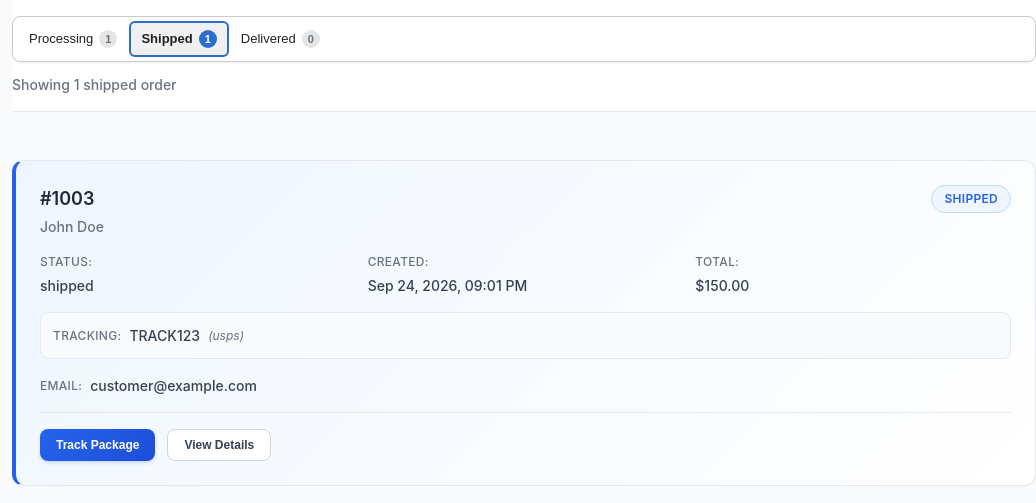
OrdersTab Component › Tab-Specific Empty States › should show delivered empty state when no delivered orders
Click Delivered tab
Click the text "Delivered".
click(268, 39)  # box [241,29,296,49]
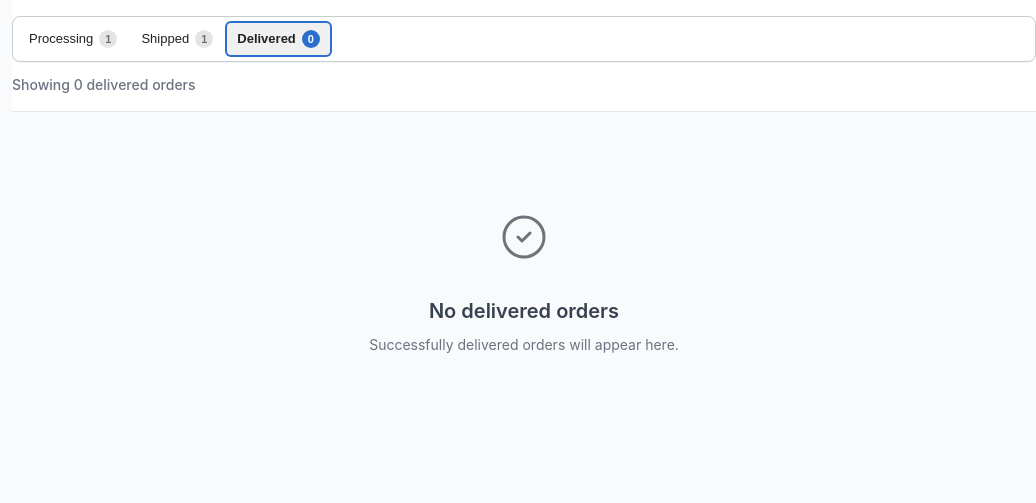
Now the heading "No delivered orders" is shown, box [429,296,619,326]
Now the text "Successfully delivered orders will appear here." is shown, box [369,334,679,355]
